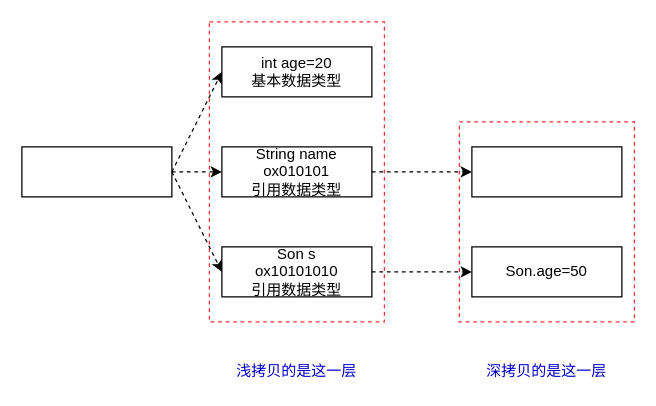
Some shapes in this 656 by 406 pixel diagram are drawn without their labels. The centre of each missing label's shape, as x and y in pixels:
"name=crs" goes at (546,171).
"Person" goes at (96,171).
